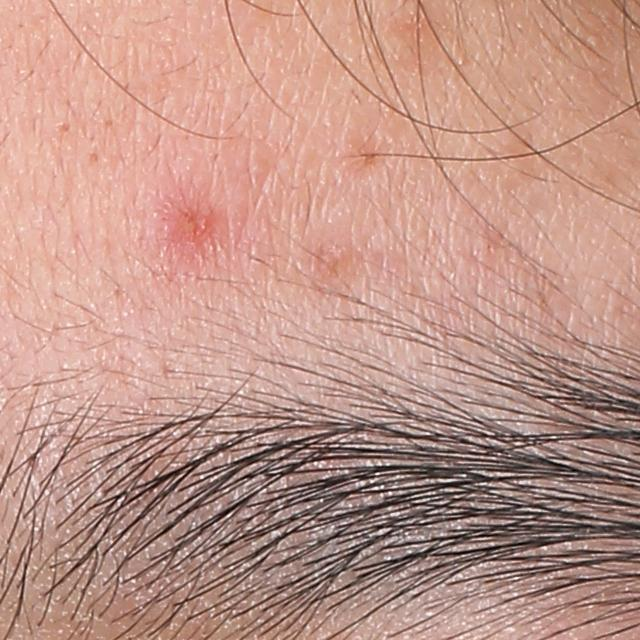comedo: (85, 148, 107, 167), (54, 119, 75, 138)
